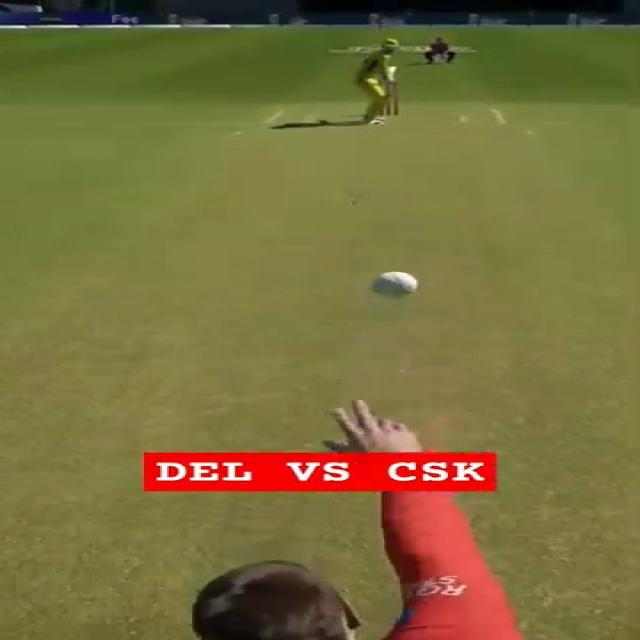ball: (361, 264, 420, 303)
